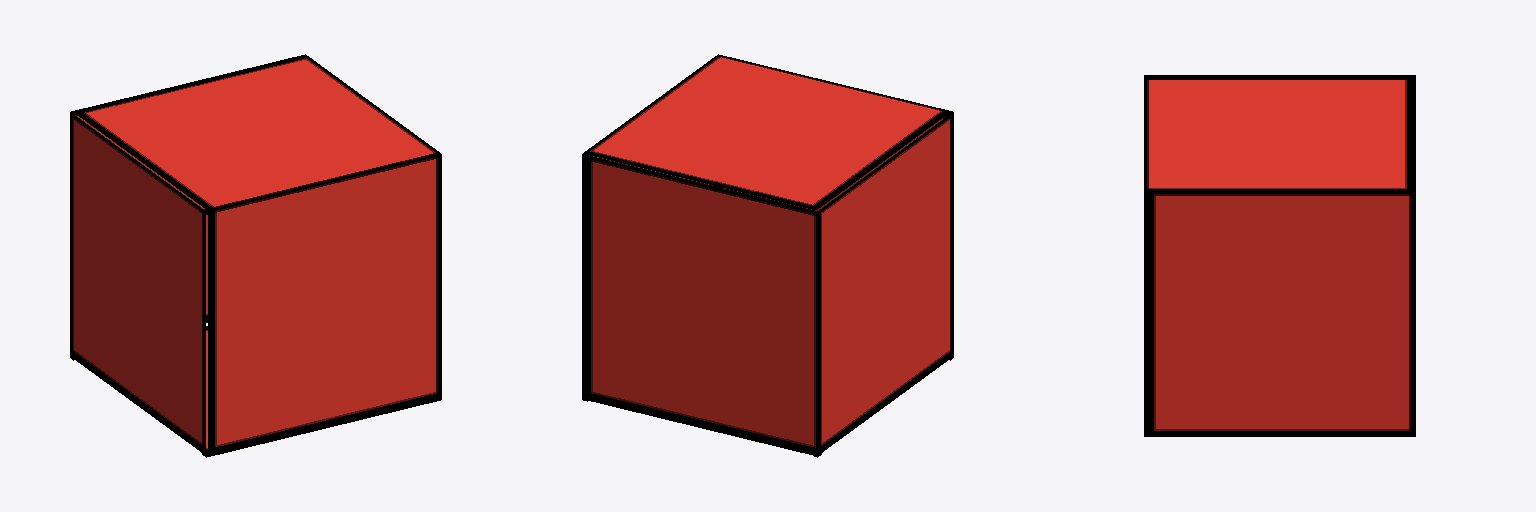
3 views of the same model, side by side, from view 1: azimuth 30°, elevation 25°; view 2: azimuth 150°, elevation 25°; view 3: azimuth 270°, elevation 25° (orthographic).
Visible parts, largest first — view 1: dice; view 2: dice; view 3: dice.
Boxes of the visible parts, box(x1,y1,x2,y2) form: dice: box(70, 54, 441, 457); dice: box(582, 54, 953, 457); dice: box(1144, 75, 1415, 436).
Size of the model in its own units: 64 by 64 by 64.
Materials: 1 (1 with a texture image).